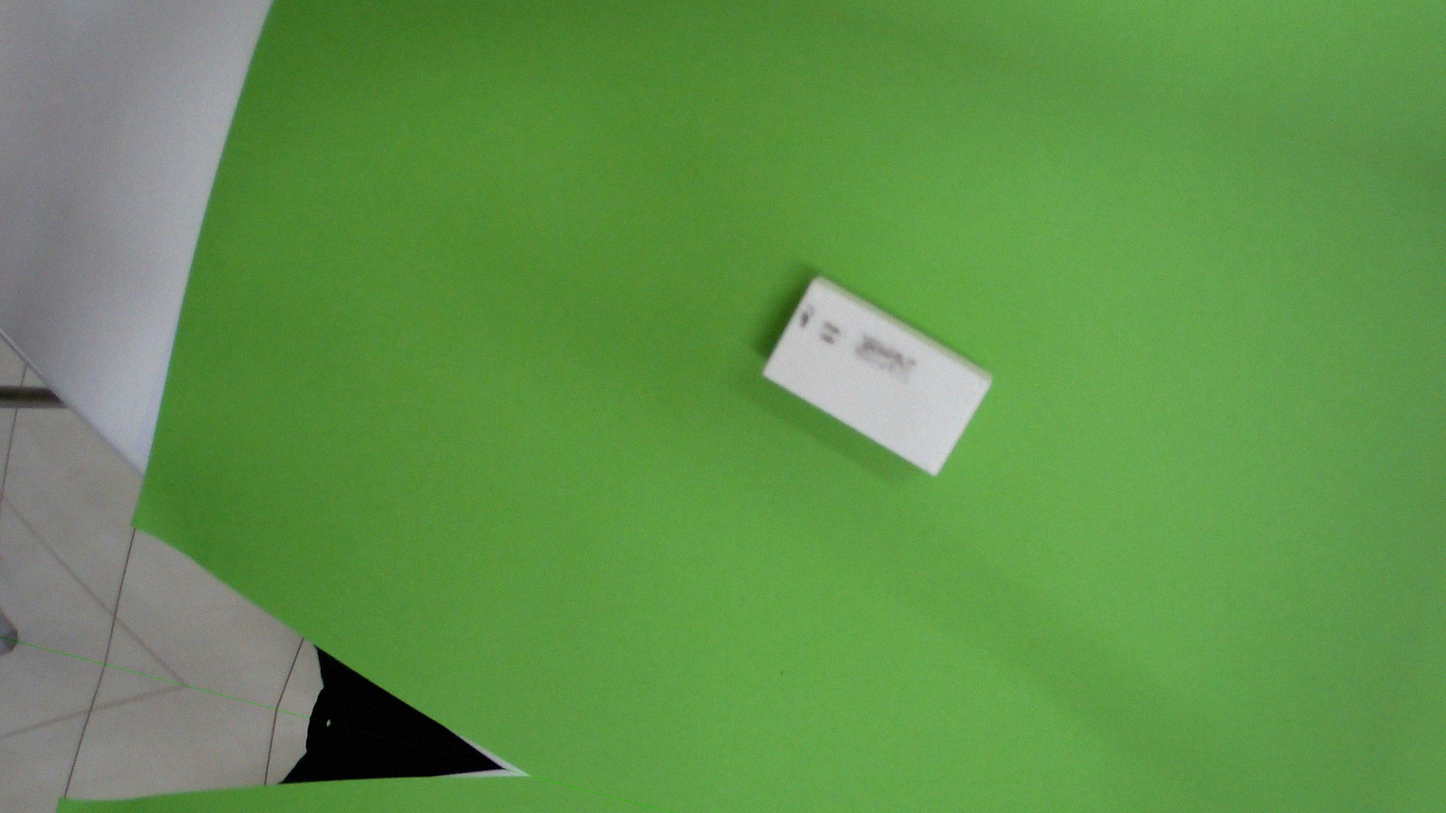gom: (735, 261, 1008, 484)
